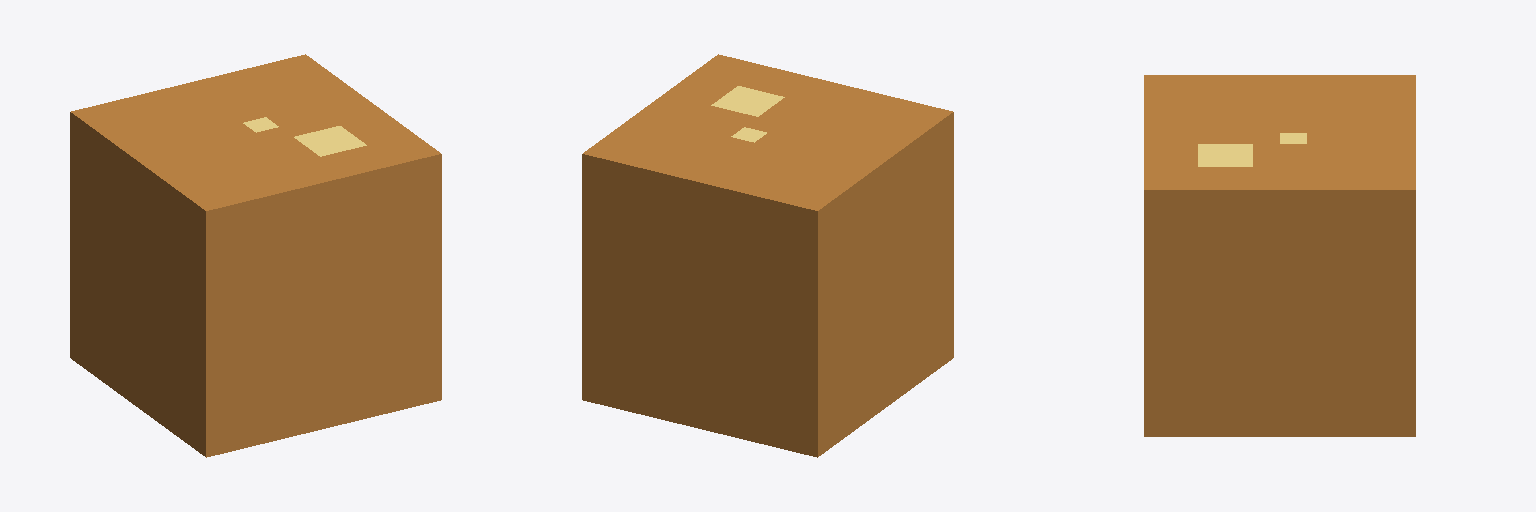
The picture shows the model from 3 angles: view 1: azimuth 30°, elevation 25°; view 2: azimuth 150°, elevation 25°; view 3: azimuth 270°, elevation 25°; orthographic projection.
Parts seen in each view (by area): view 1: object 1; view 2: object 1; view 3: object 1.
Boxes of the visible parts, x1=… form: object 1: x1=70, y1=54, x2=441, y2=457; object 1: x1=582, y1=54, x2=953, y2=457; object 1: x1=1144, y1=75, x2=1415, y2=436.
Size of the model in its own units: 1 by 1 by 1.
1 materials, 1 textured.